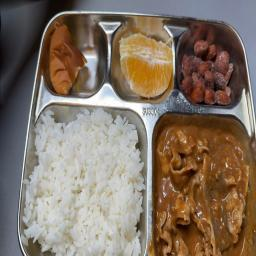100_beef: (157, 127, 248, 256)
100_nuts: (179, 34, 233, 106)
100_orange: (111, 24, 176, 100)
100_rice: (28, 104, 146, 256)
50_bread: (47, 17, 102, 98)
